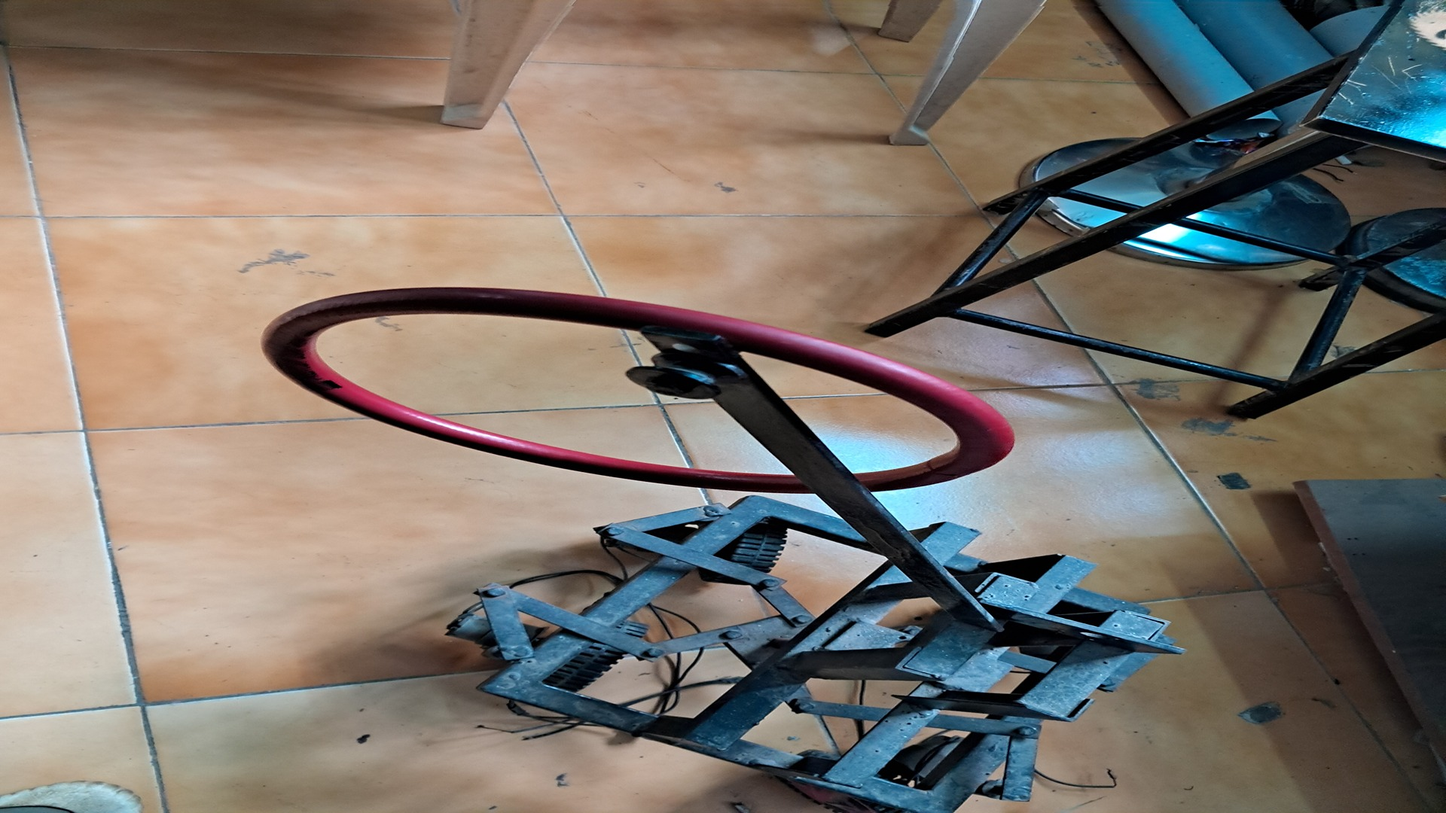Red ring: (262, 288, 1008, 494)
